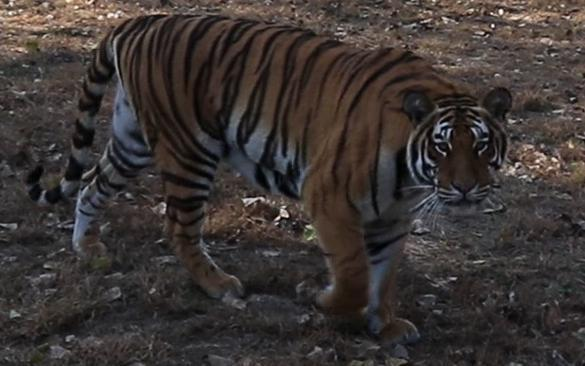tiger: (55, 14, 510, 341)
